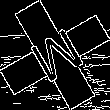M_SE: (22, 22, 88, 88)
